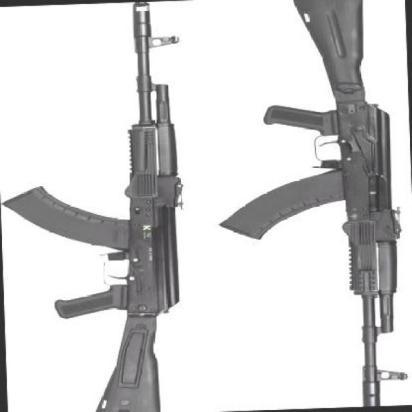Gun: (218, 0, 402, 408), (1, 2, 184, 412)
